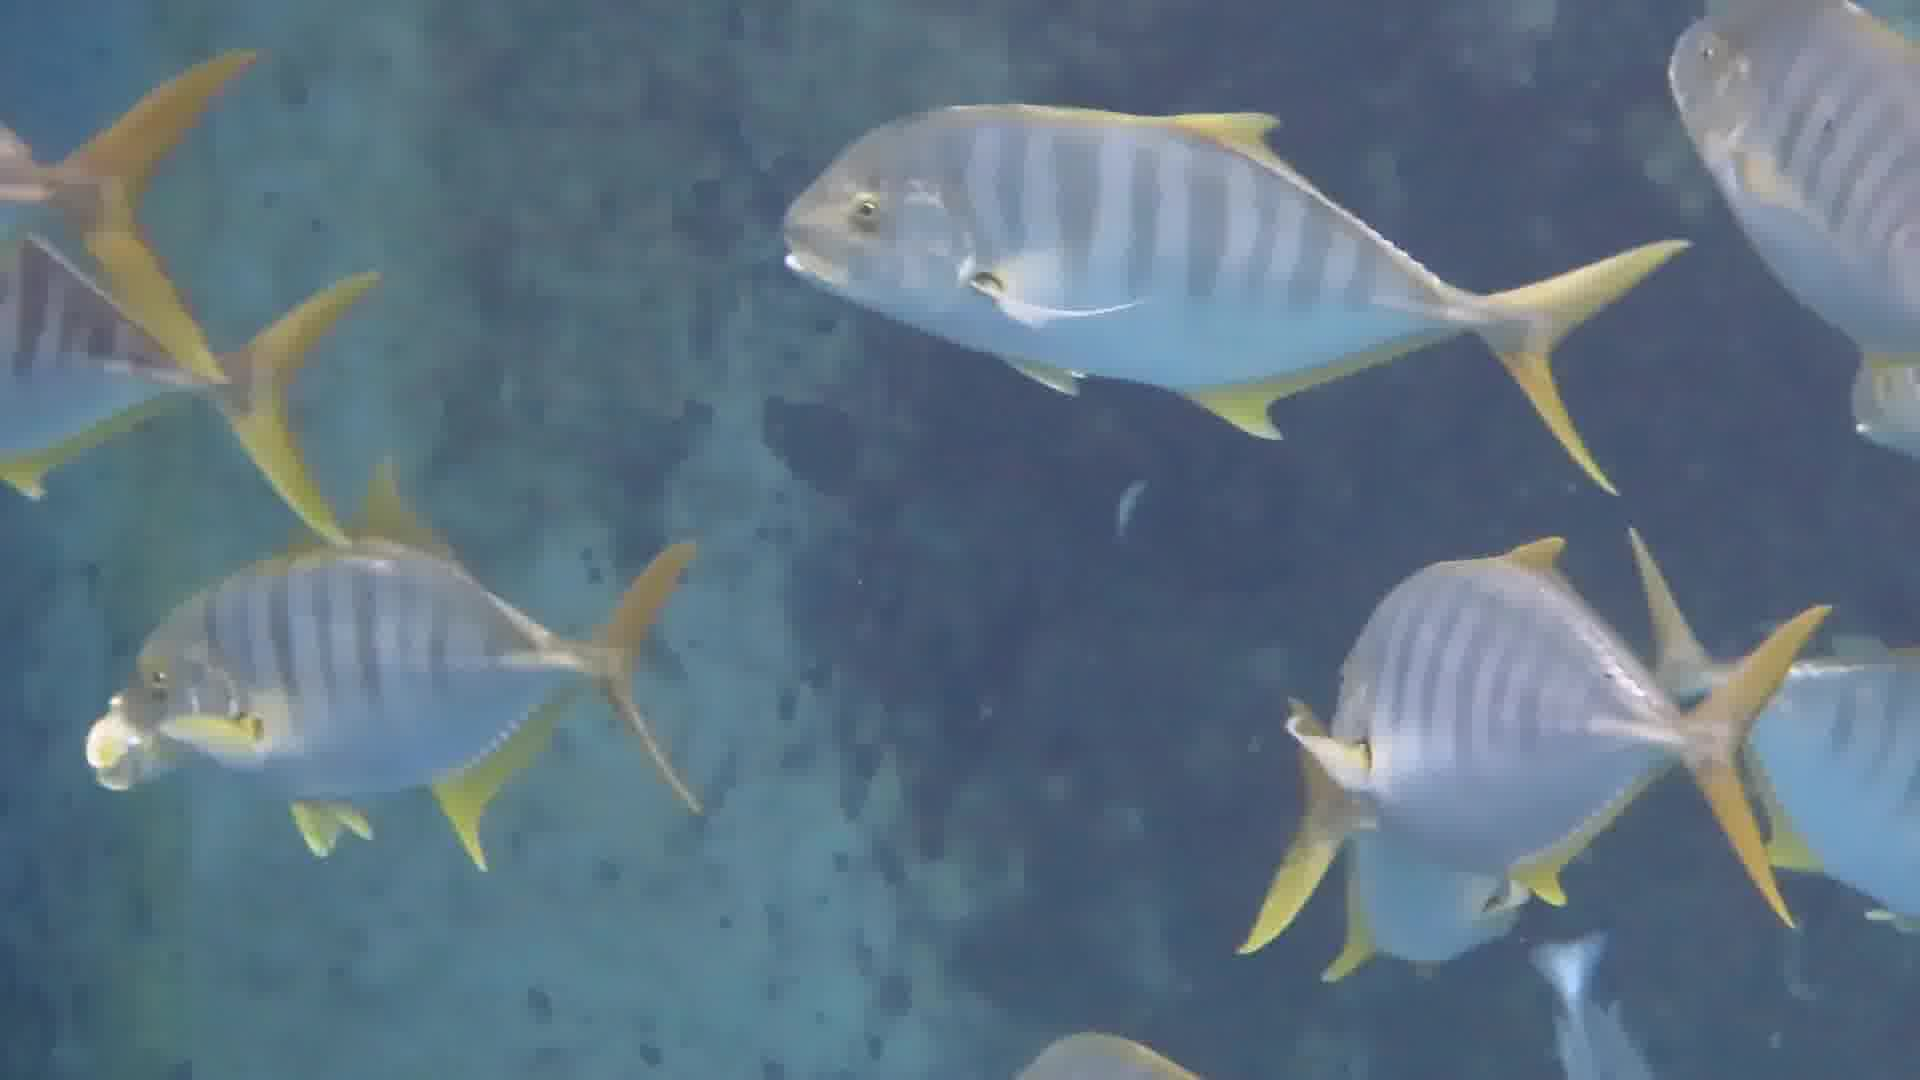Gnathanodon speciosus: (767, 82, 1606, 447), (113, 591, 720, 800)
